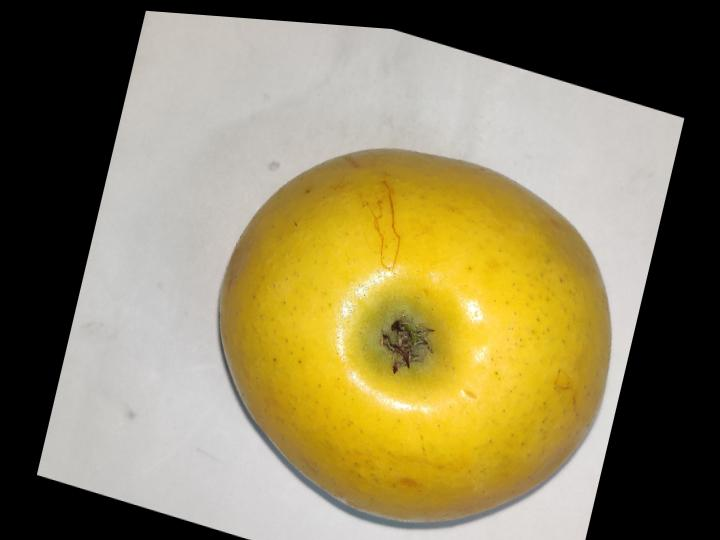apple: (221, 150, 610, 522)
surface_damage: (358, 179, 400, 270), (463, 389, 477, 399)
